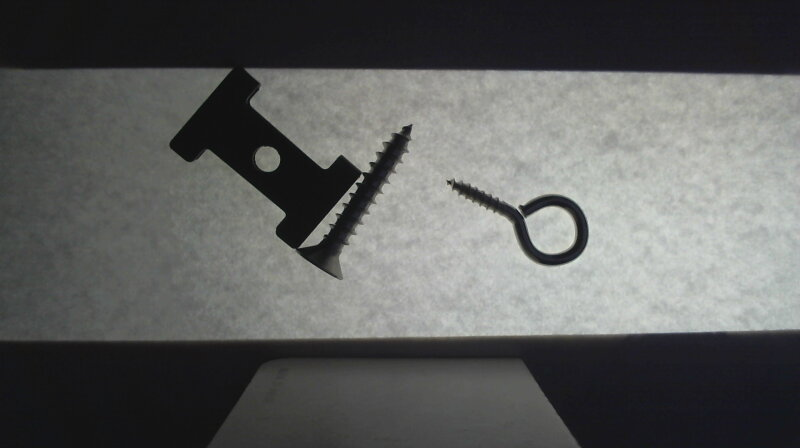O001: (444, 176, 590, 265)
O002: (167, 66, 362, 252)
S001: (294, 123, 413, 280)
